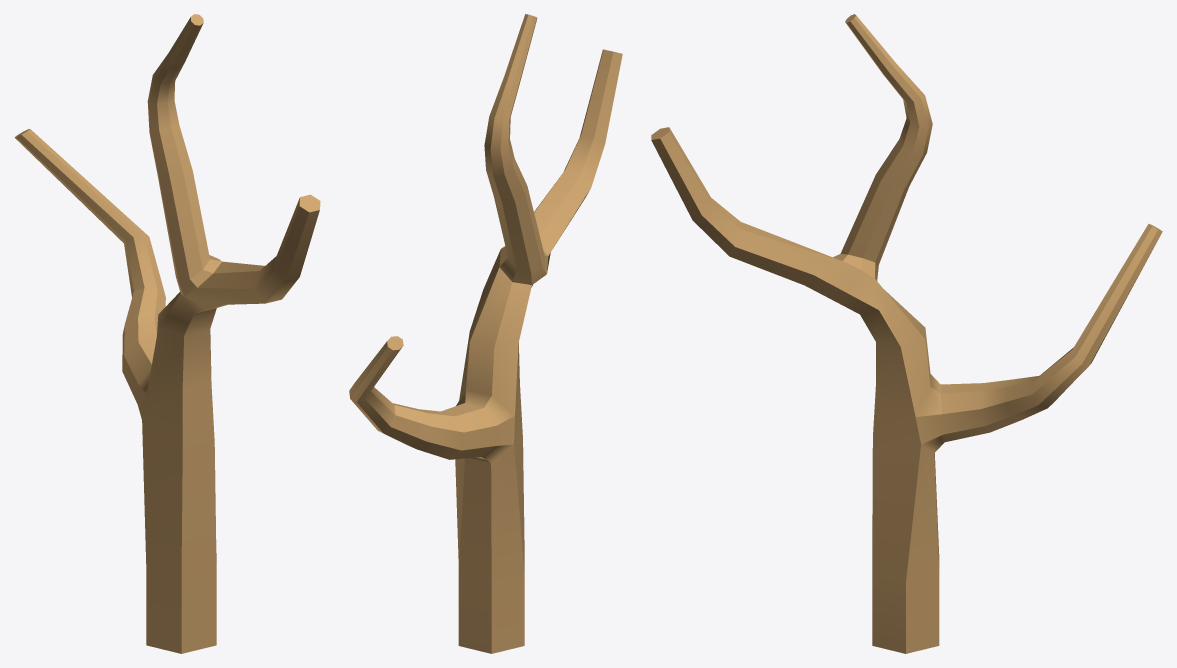
File: TREE-DEAD.fbx
3 renders of one model, left to right at view 1: azimuth 30°, elevation 25°; view 2: azimuth 150°, elevation 25°; view 3: azimuth 270°, elevation 25°, orthographic. The views are drawn at different scales.
Visible parts, largest first — view 1: pCylinder1; view 2: pCylinder1; view 3: pCylinder1.
Boxes of the visible parts, x1,y1,x2,y2 form: pCylinder1: (14,14,320,653); pCylinder1: (349,14,622,653); pCylinder1: (651,14,1162,653).
Bounding box in the file's own units: 2.7 × 17.55 × 13.2.
